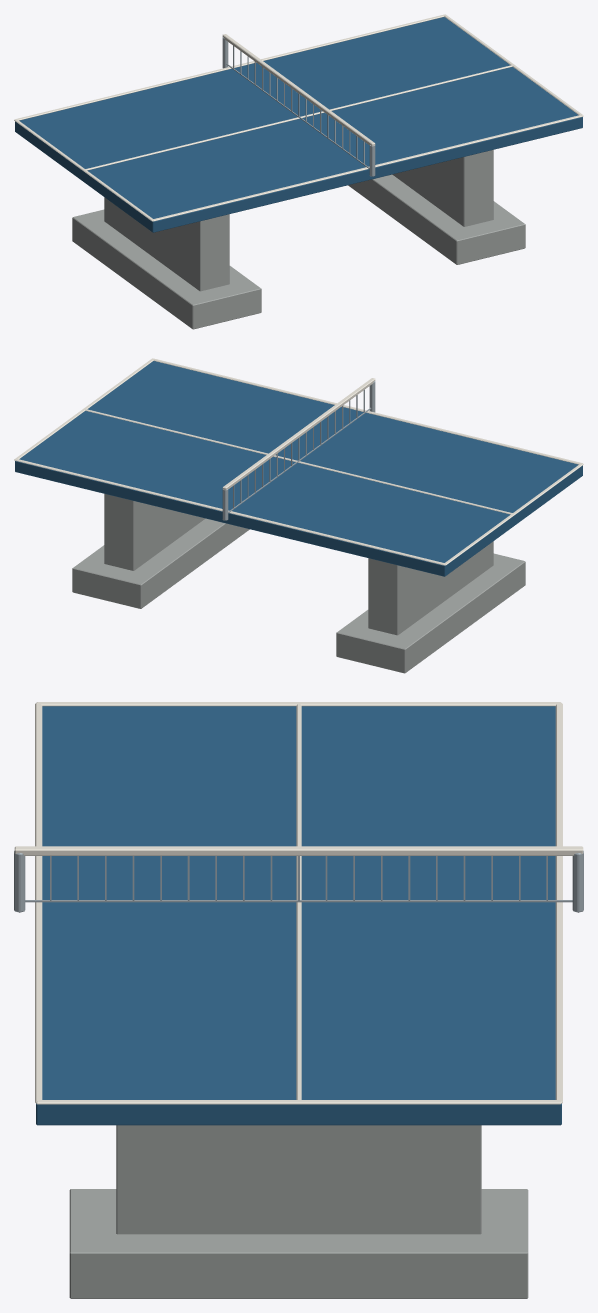
Rendered from b09_outdoor_table_tennis.glb.
3 renders of one model, top to bottom at view 1: azimuth 30°, elevation 25°; view 2: azimuth 150°, elevation 25°; view 3: azimuth 270°, elevation 25°, orthographic. The views are drawn at different scales.
Visible parts, largest first — view 1: b09_outdoor_table_tennis; view 2: b09_outdoor_table_tennis; view 3: b09_outdoor_table_tennis.
Part boxes in pixels (box(x1,y1,x2,y2)): b09_outdoor_table_tennis: box(14, 14, 583, 329); b09_outdoor_table_tennis: box(14, 358, 583, 673); b09_outdoor_table_tennis: box(14, 702, 583, 1298).
Size of the model in its own units: 2.75 by 0.951 by 1.65.
